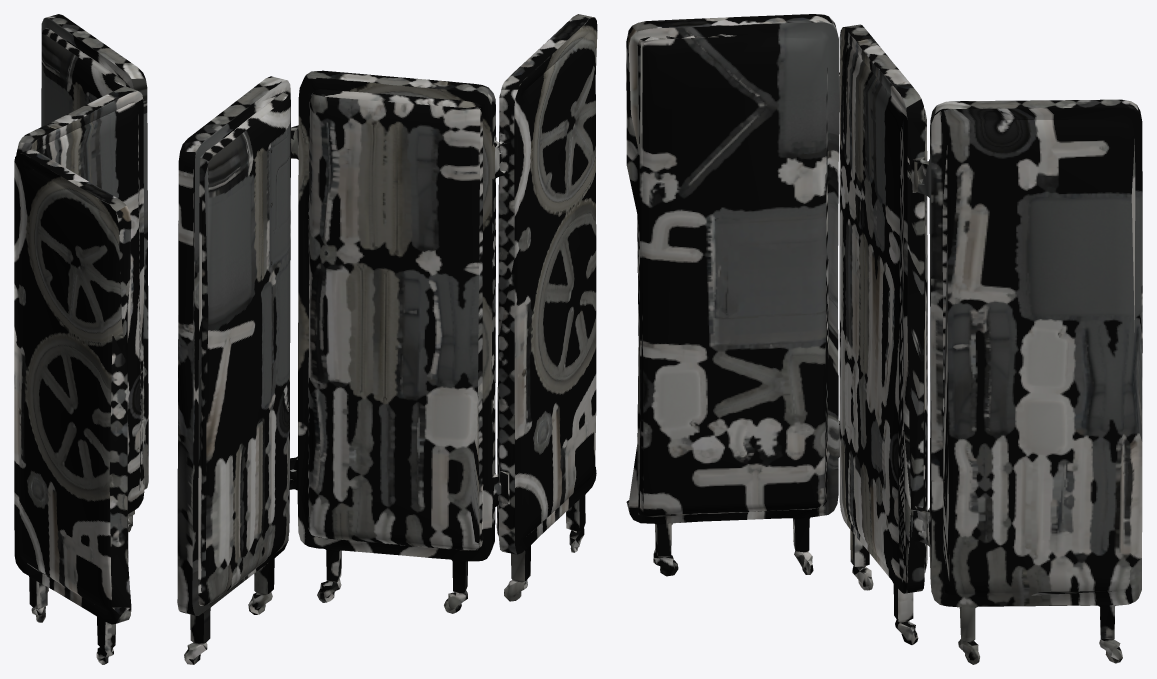
3 views of the same model, side by side, from view 1: azimuth 30°, elevation 25°; view 2: azimuth 150°, elevation 25°; view 3: azimuth 270°, elevation 25° (orthographic). The views are drawn at different scales.
Visible parts, largest first — view 1: repaired; view 2: repaired; view 3: repaired.
Part boxes in pixels (box(x1,y1,x2,y2)): repaired: box(14, 14, 148, 664); repaired: box(177, 14, 597, 664); repaired: box(626, 14, 1142, 664).
Size of the model in its own units: 0.4028 by 0.9995 by 0.8397.
